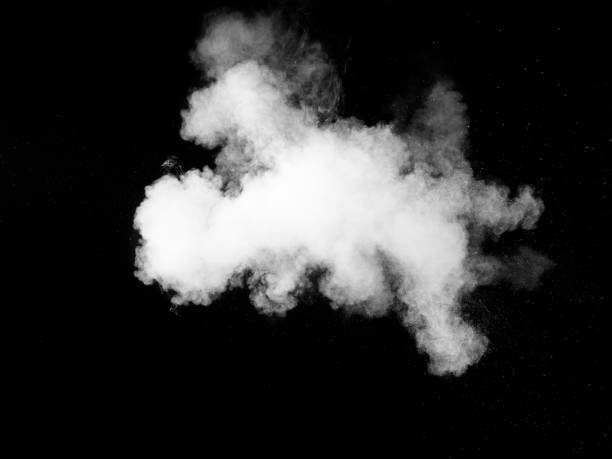smoke: (128, 49, 496, 369)
